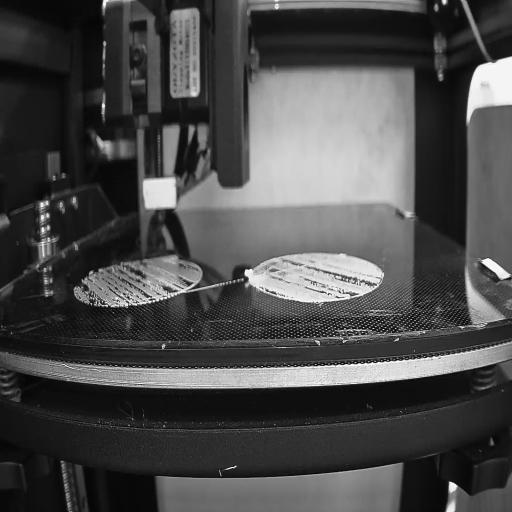under_extrusion: (259, 259, 382, 304), (73, 266, 203, 308)
